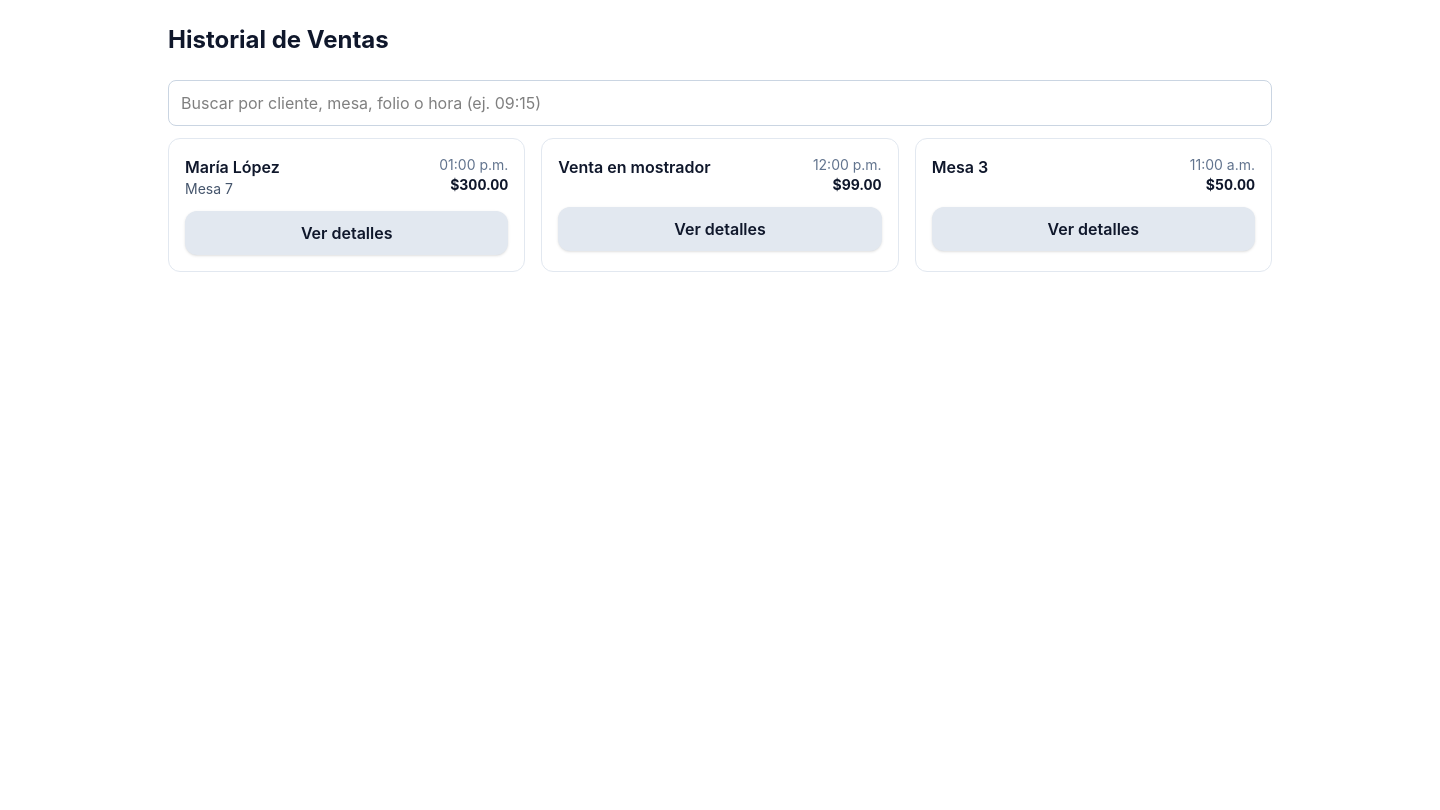
Test case: ReturnsPage › shows only the table number for table sales without a customer name
Check: the text "Mesa 3" is shown once, box [932,155,988,179]
What coordinates should you click on to do the following:
click the button "Ver detalles" below "$50.00"
I would click on:
 (1093, 229)
Its box is [932,207,1255,251].
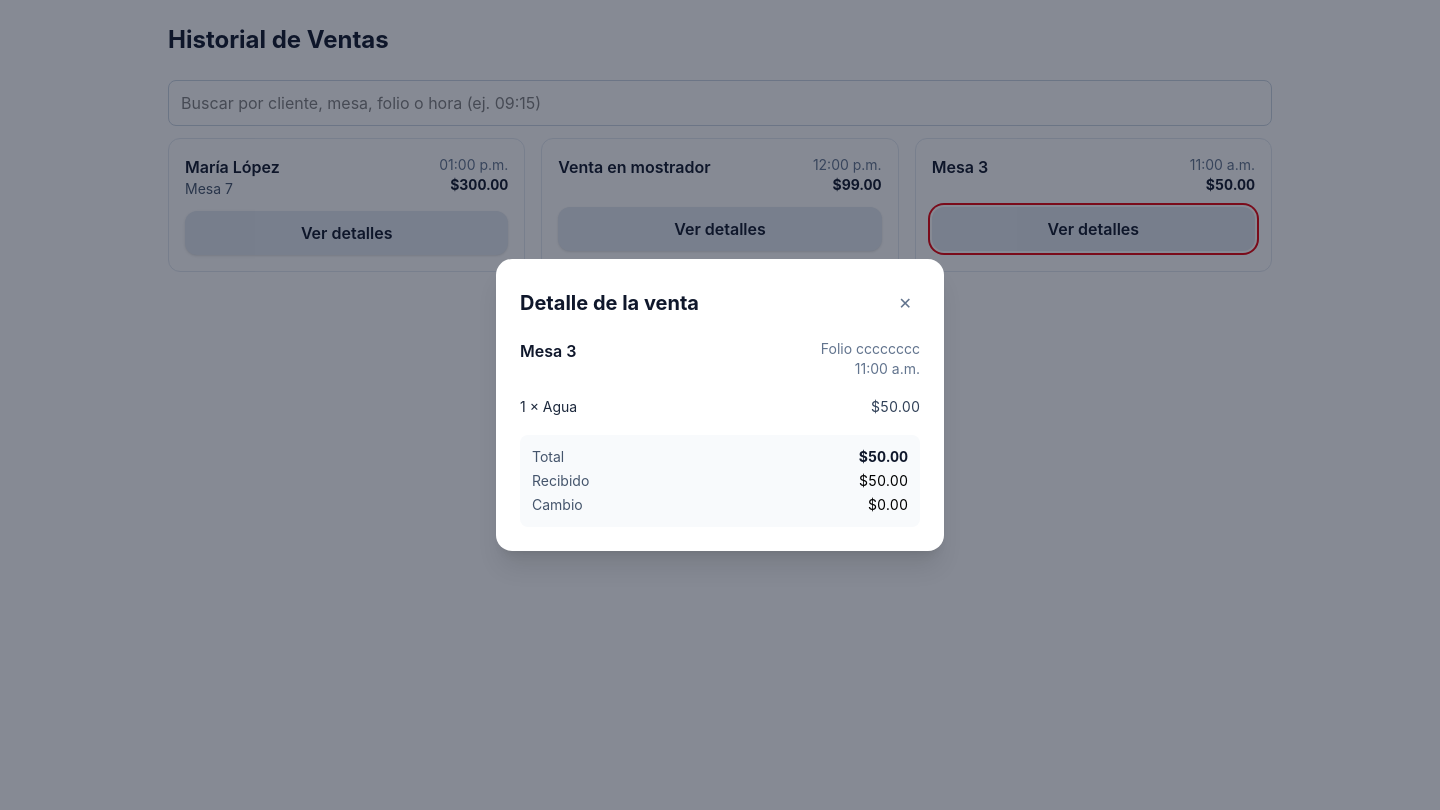
Check: the text "Mesa 3" is shown once, box [520,339,576,363]
